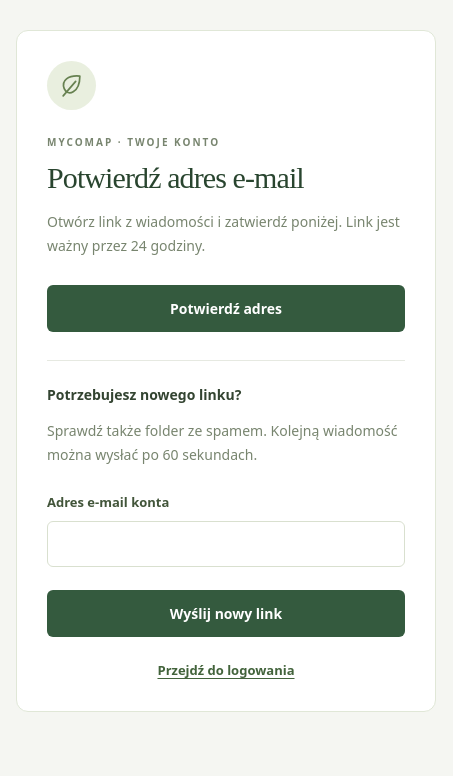
Test: po wygaśnięciu linku pozwala poprosić o nowy
Click the button "Potwierdź adres". click: (226, 308)
box: [47,285,405,332]
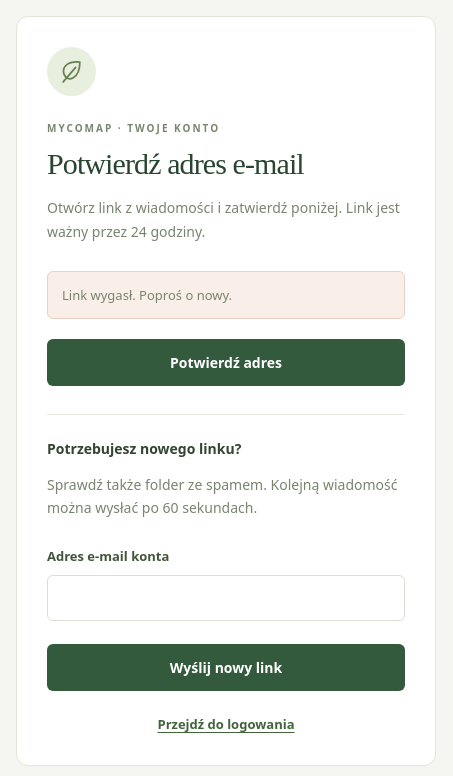
Expected: the button "Wyślij nowy link" is enabled, [47,644,405,691]
Expected: the message shows "Link wygasł.", [62,286,232,304]
Type "student@example.com" into the field labelled "Adres e-mail konta". click: (226, 598)
box: [47,575,405,621]
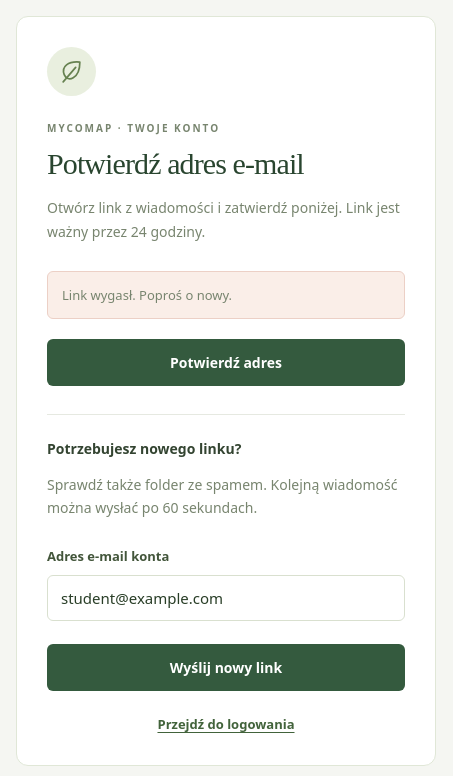
Submit the form named "Wyślij nowy link", box [47,414,405,691]
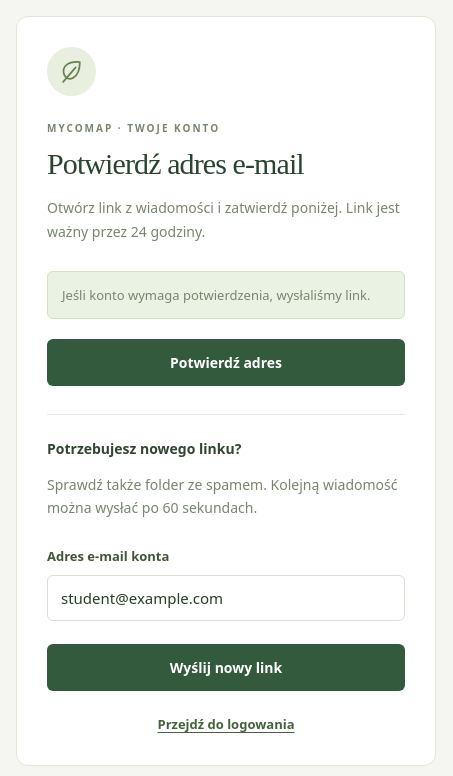
Expected: the message shows "wysłaliśmy link", [62,286,370,304]
